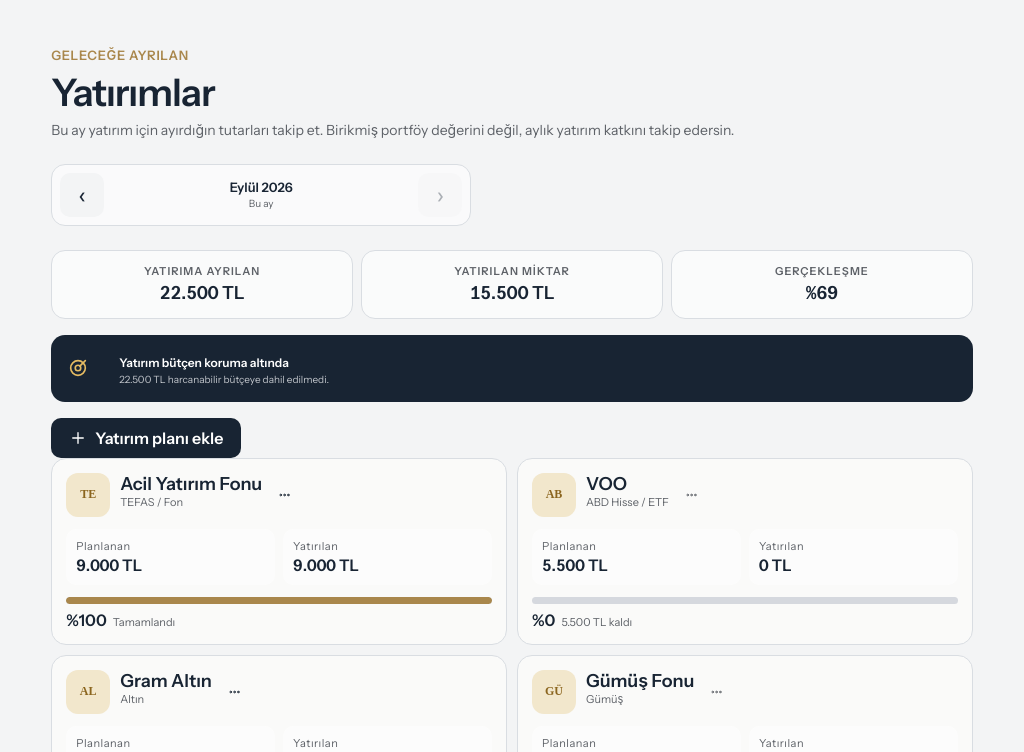
UX polish pack › AKÇE-039: Compact Asset & Investment Cards › investment detail sheet shows planned, actual, remaining, progress, status
Click the button named "Yatırım işlemleri" next to "Acil Yatırım Fonu" at (294, 495), box [272,473,316,517]
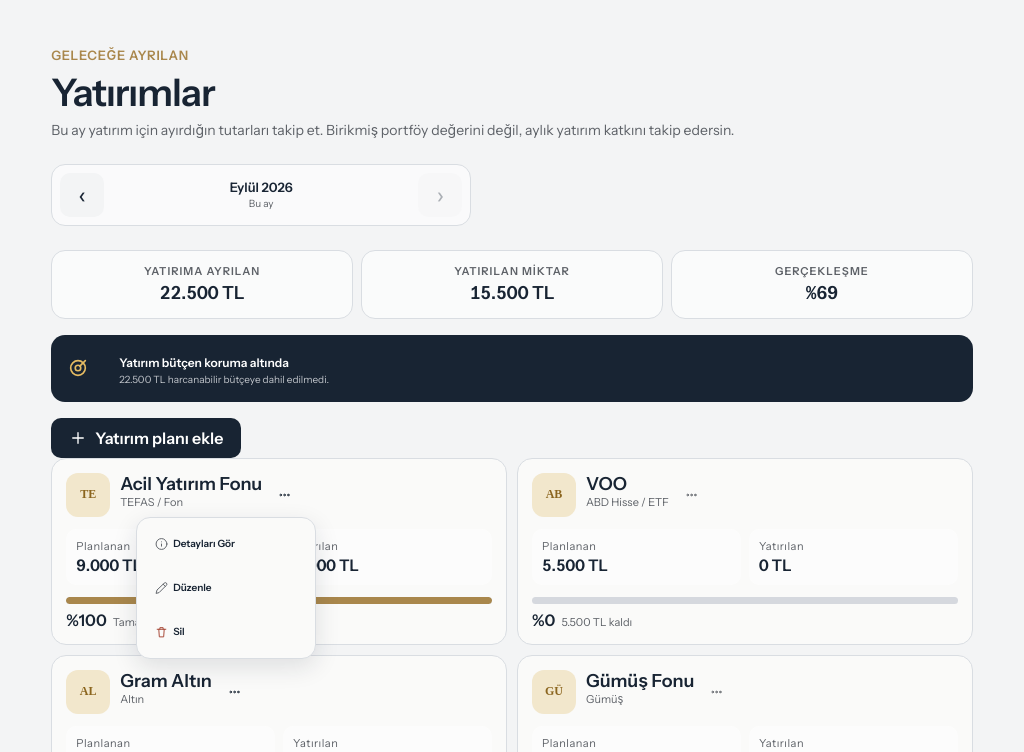
Click the menu item "Detayları Gör" at (226, 544), box [141,522,311,566]
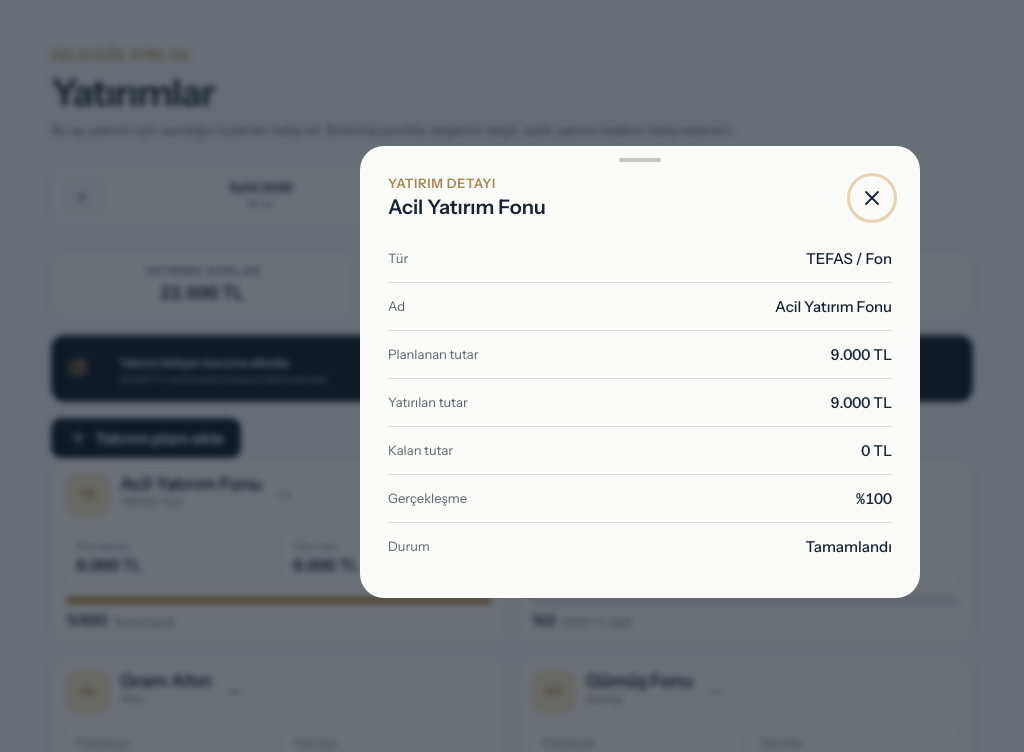
expect the text "YATIRIM DETAYI" is shown: met, box [388,175,496,191]
expect the text "Planlanan tutar" is shown: met, box [388,346,479,362]
expect the text "Yatırılan tutar" is shown: met, box [388,394,468,410]
